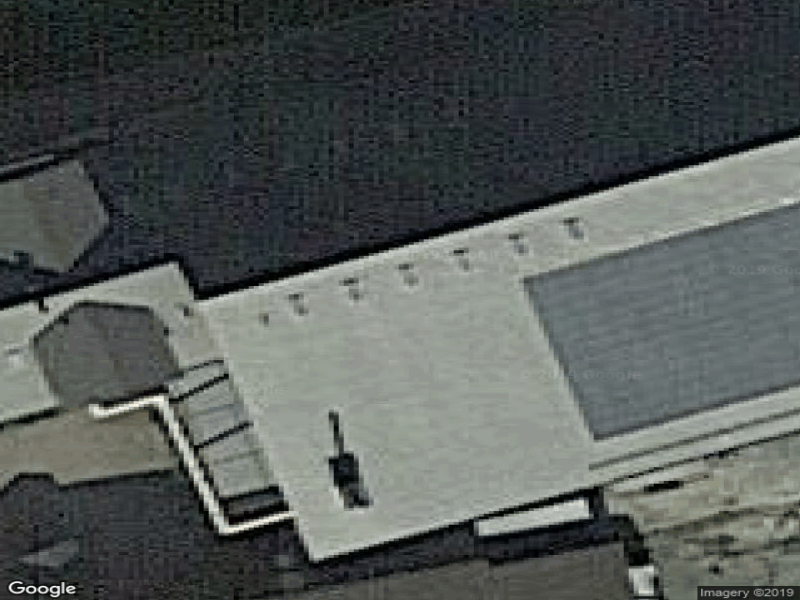pv: (526, 201, 800, 439)
